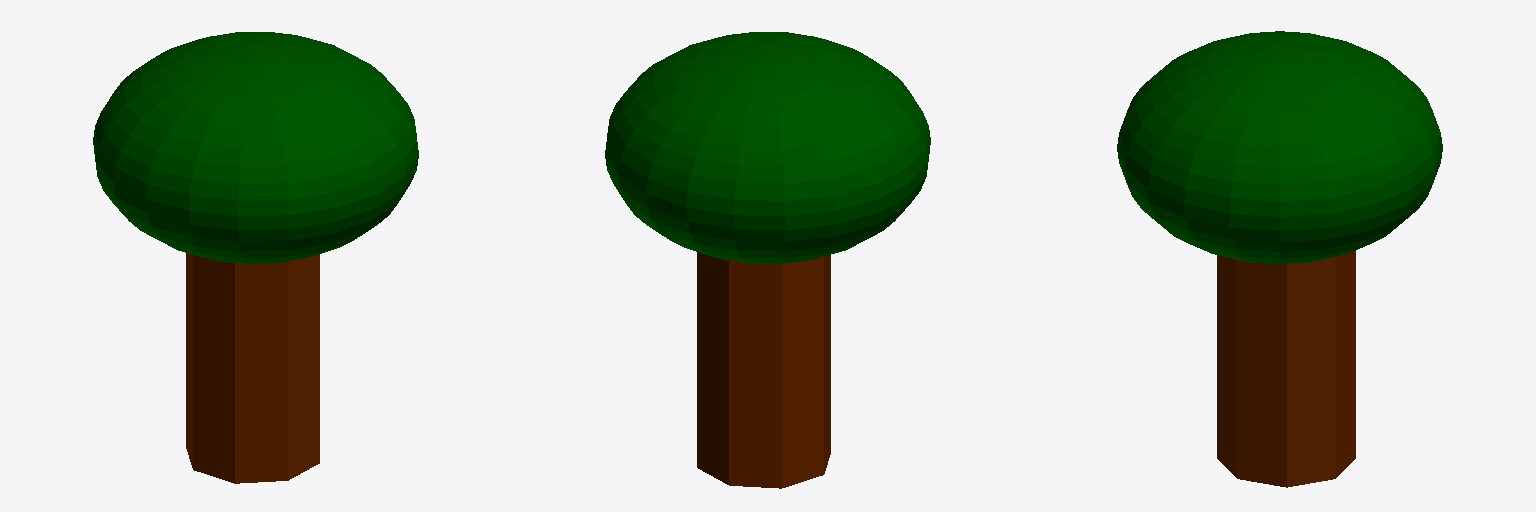
File: Tree.obj
The picture shows the model from 3 angles: view 1: azimuth 30°, elevation 25°; view 2: azimuth 150°, elevation 25°; view 3: azimuth 270°, elevation 25°; orthographic projection.
Parts seen in each view (by area): view 1: pSphere1, pCylinder1; view 2: pSphere1, pCylinder1; view 3: pSphere1, pCylinder1.
Boxes of the visible parts, box(x1,y1,x2,y2) form: pSphere1: box(93, 32, 418, 263); pCylinder1: box(186, 253, 319, 483); pSphere1: box(605, 32, 930, 263); pCylinder1: box(697, 252, 830, 488); pSphere1: box(1117, 31, 1442, 263); pCylinder1: box(1217, 251, 1355, 487).
Bounding box in the file's own units: 47.22 × 64.06 × 46.86.